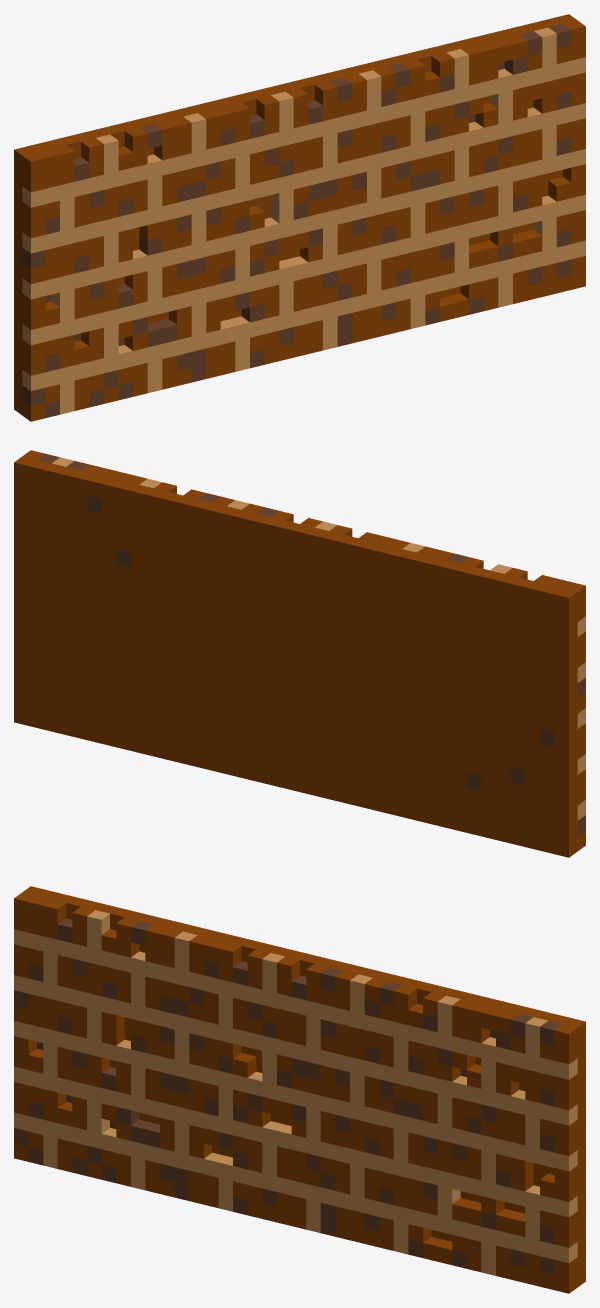
The model's file is BrickWall.obj.
The picture shows the model from 3 angles, top to bottom: view 1: azimuth 30°, elevation 25°; view 2: azimuth 150°, elevation 25°; view 3: azimuth 330°, elevation 25°; orthographic projection.
Size of the model in its own units: 3.8 by 1.7 by 0.2.
1 material, 1 textured.
